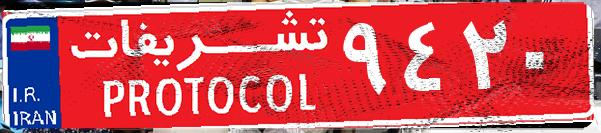0: (520, 20, 580, 115)
2: (460, 20, 520, 115)
4: (400, 20, 460, 115)
9: (340, 20, 400, 115)
تشریفات: (60, 8, 340, 125)
